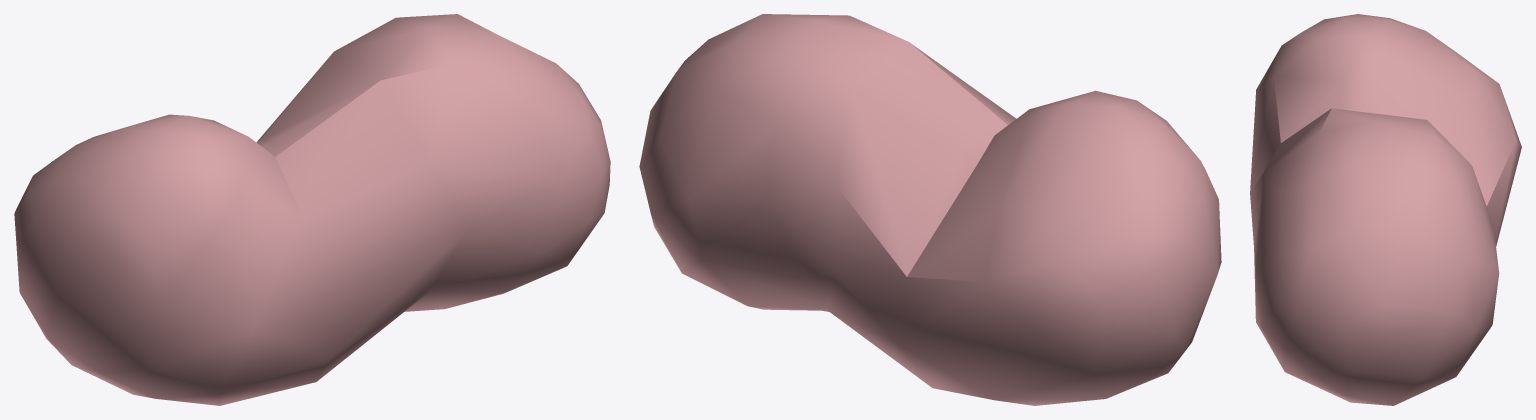
The model's file is fma16983_fj2612.glb.
3 renders of one model, left to right at view 1: azimuth 30°, elevation 25°; view 2: azimuth 150°, elevation 25°; view 3: azimuth 270°, elevation 25°, orthographic. The views are drawn at different scales.
Visible parts, largest first — view 1: FMA16983_FJ2612; view 2: FMA16983_FJ2612; view 3: FMA16983_FJ2612.
Part boxes in pixels (<box>): FMA16983_FJ2612: <box>14,14,610,405</box>; FMA16983_FJ2612: <box>639,14,1221,405</box>; FMA16983_FJ2612: <box>1250,14,1521,405</box>.
Size of the model in its own units: 0.053 by 0.0286 by 0.0247.
